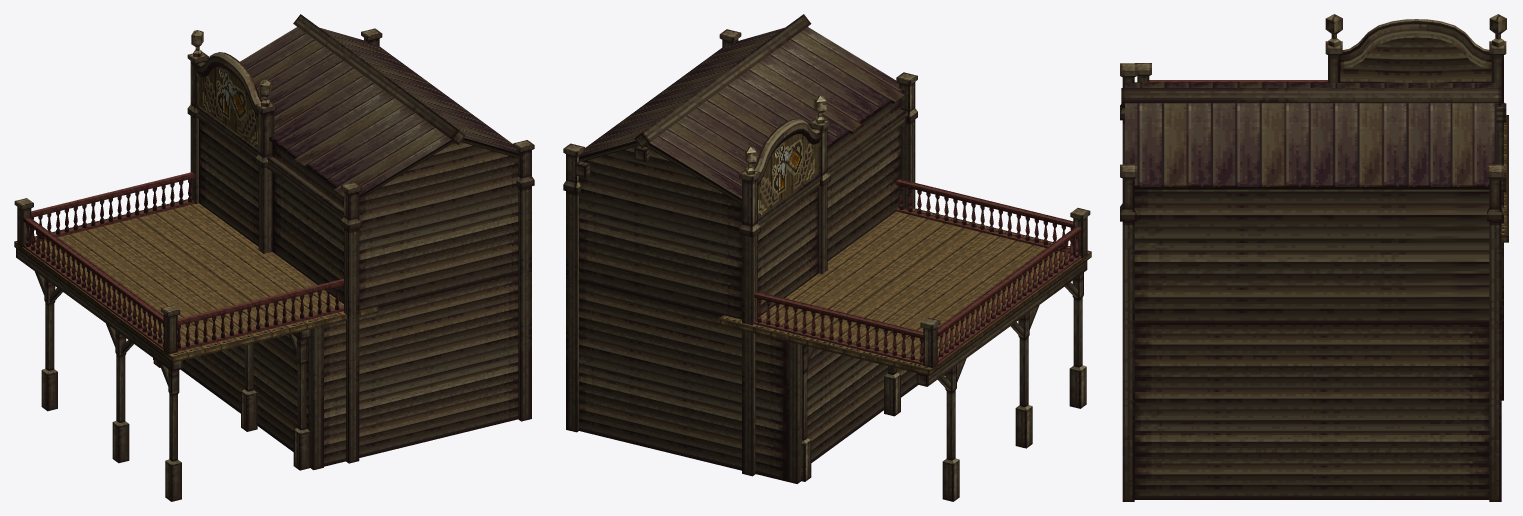
Rendered from EnvBdgMD_Wilderness_A_Outdoor_Shop_Pub.FBX.
The picture shows the model from 3 angles, left to right: view 1: azimuth 30°, elevation 25°; view 2: azimuth 150°, elevation 25°; view 3: azimuth 270°, elevation 25°; orthographic projection. The views are drawn at different scales.
Parts seen in each view (by area): view 1: EnvBdgMD_Wilderness_A_Outdoor_Shop_Pub; view 2: EnvBdgMD_Wilderness_A_Outdoor_Shop_Pub; view 3: EnvBdgMD_Wilderness_A_Outdoor_Shop_Pub.
Boxes of the visible parts, x1,y1,x2,y2 form: EnvBdgMD_Wilderness_A_Outdoor_Shop_Pub: [14, 14, 534, 501]; EnvBdgMD_Wilderness_A_Outdoor_Shop_Pub: [563, 14, 1091, 501]; EnvBdgMD_Wilderness_A_Outdoor_Shop_Pub: [1120, 14, 1508, 501].
Bounding box in the file's own units: 1025 × 865 × 795.
1 material, 1 textured.
